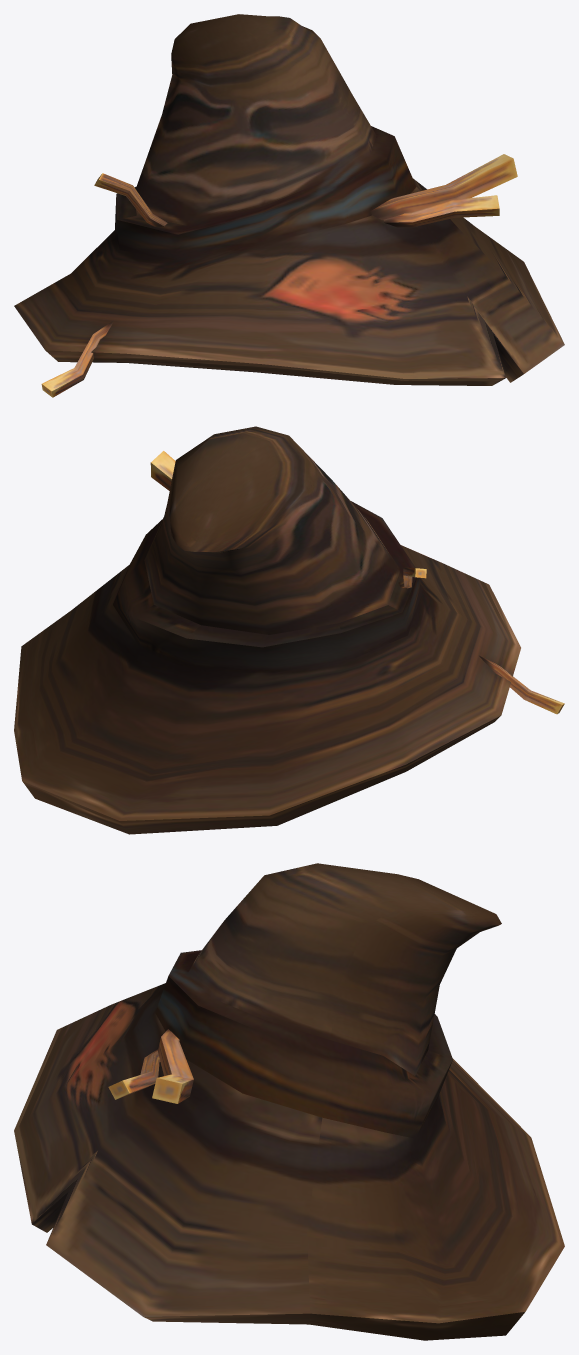
File: Hat.fbx
3 renders of one model, top to bottom at view 1: azimuth 30°, elevation 25°; view 2: azimuth 150°, elevation 25°; view 3: azimuth 270°, elevation 25°, orthographic. The views are drawn at different scales.
Parts seen in each view (by area): view 1: Hat; view 2: Hat; view 3: Hat.
Part boxes in pixels (box(x1,y1,x2,y2)): Hat: box(14, 14, 564, 397); Hat: box(14, 426, 564, 834); Hat: box(14, 863, 564, 1340).
Size of the model in its own units: 0.7525 by 0.4857 by 0.617.
